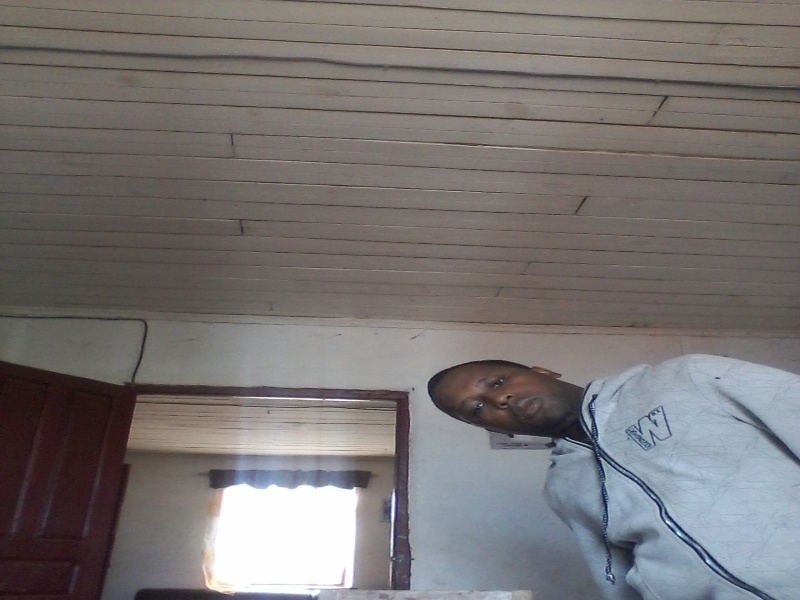TsisyArotava: (422, 339, 604, 458)
